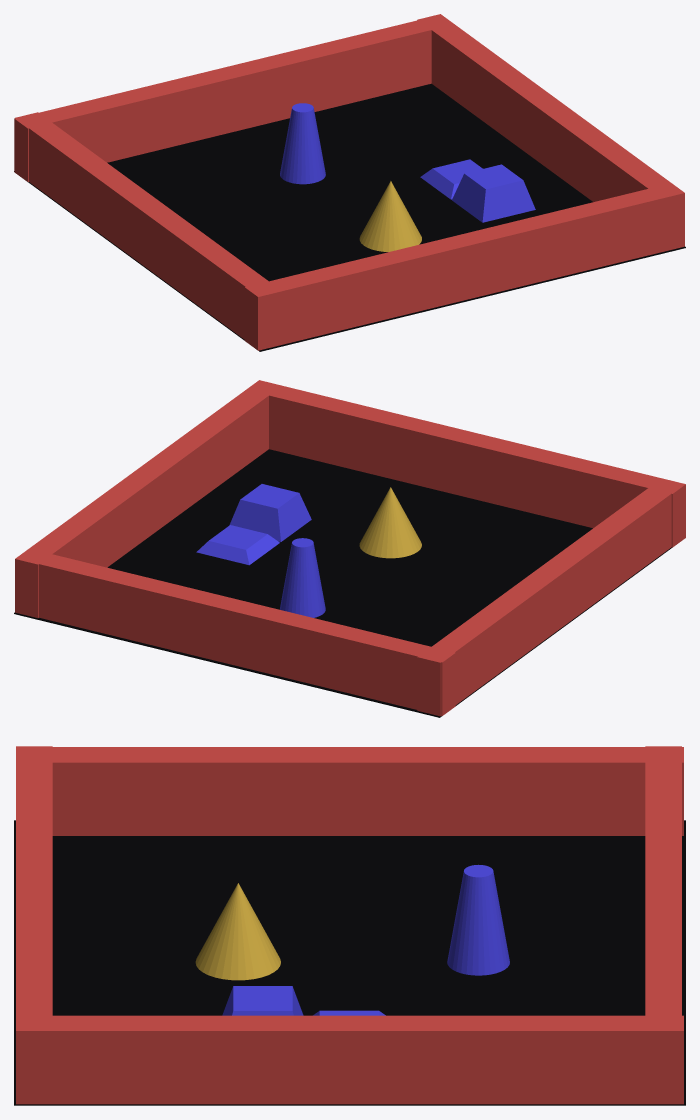
File: wall.glb
3 renders of one model, top to bottom at view 1: azimuth 30°, elevation 25°; view 2: azimuth 150°, elevation 25°; view 3: azimuth 270°, elevation 25°, orthographic. The views are drawn at different scales.
Parts seen in each view (by area): view 1: 立方体, 立方体.004, 立方体.003, 立方体.001, 立方体.002, 柱体, 锥体; view 2: 立方体, 立方体.003, 立方体.004, 立方体.001, 立方体.002, 柱体, 锥体; view 3: 立方体, 立方体.002, 立方体.001, 立方体.003, 立方体.004, 柱体, 锥体.
Part boxes in pixels (box(x1,y1,x2,y2)): 立方体: box(14, 83, 685, 351); 立方体.004: box(244, 189, 661, 350); 立方体.003: box(14, 16, 449, 181); 立方体.001: box(14, 112, 282, 350); 立方体.002: box(417, 14, 684, 251); 柱体: box(280, 103, 535, 222); 锥体: box(359, 181, 421, 251); 立方体: box(14, 449, 671, 717); 立方体.003: box(19, 552, 455, 715); 立方体.004: box(258, 384, 685, 547); 立方体.001: box(417, 478, 684, 716); 立方体.002: box(15, 380, 281, 617); 柱体: box(196, 484, 325, 617); 锥体: box(359, 487, 421, 558); 立方体: box(14, 820, 685, 1105); 立方体.002: box(16, 1015, 683, 1104); 立方体.001: box(16, 747, 683, 835); 立方体.003: box(645, 746, 681, 1028); 立方体.004: box(16, 746, 52, 1028); 柱体: box(222, 864, 509, 1015); 锥体: box(195, 883, 280, 980).
Bounding box in the file's own units: 45.48 × 6.89 × 45.37.
